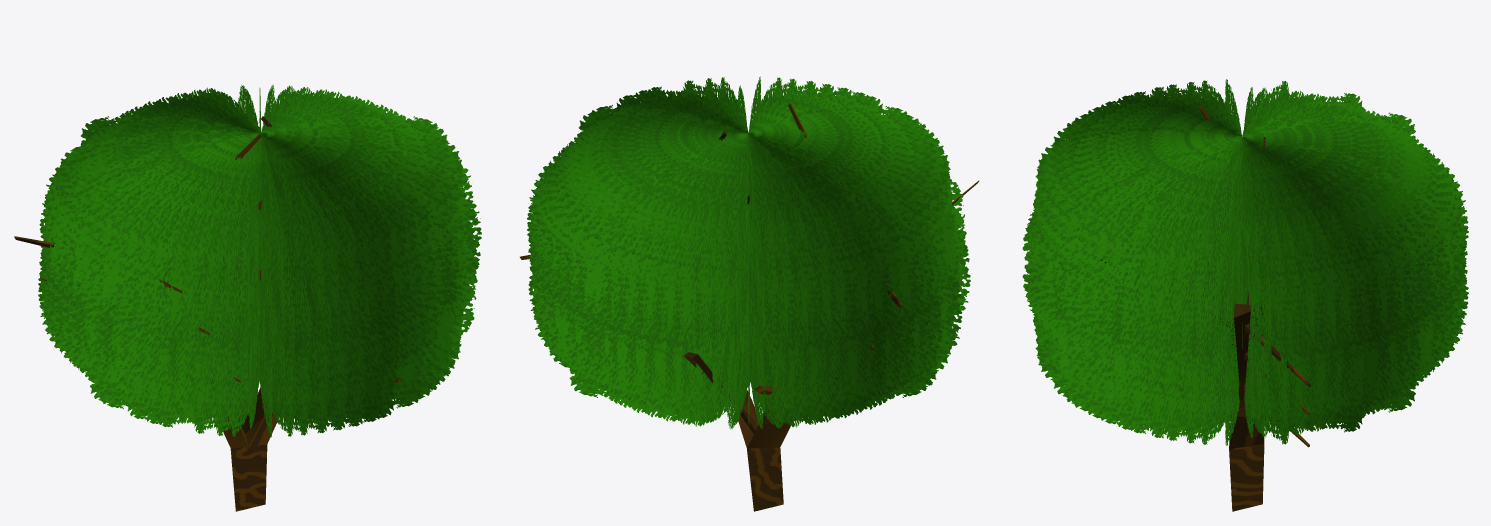
File: arbusto.fbx
3 views of the same model, side by side, from view 1: azimuth 30°, elevation 25°; view 2: azimuth 150°, elevation 25°; view 3: azimuth 270°, elevation 25° (orthographic). The views are drawn at different scales.
Visible parts, largest first — view 1: arbusto; view 2: arbusto; view 3: arbusto.
Boxes of the visible parts, x1,y1,x2,y2 form: arbusto: [14, 84, 481, 511]; arbusto: [520, 76, 979, 511]; arbusto: [1022, 79, 1468, 511].
Bounding box in the file's own units: 0.9833 × 0.9182 × 0.9785.
